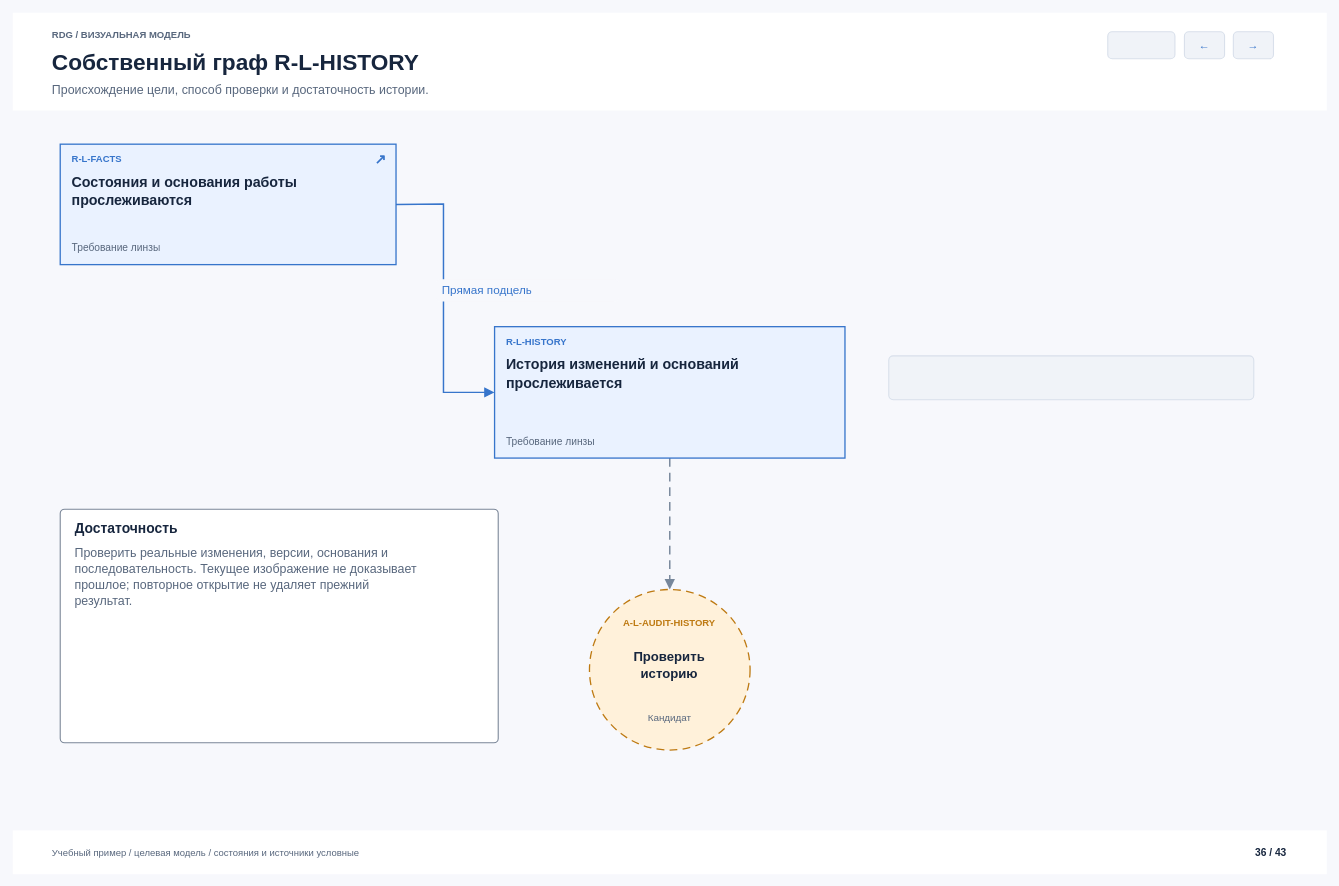
This 1339x886 diagram has some shape labels left out. The shapes that lost their labels are listed below. From the top down, each one's box as (x1, y1, x2, y2) in pixels, then its label:
(1107, 31, 1175, 59): Карта
(888, 355, 1254, 400): Пояснение истории
